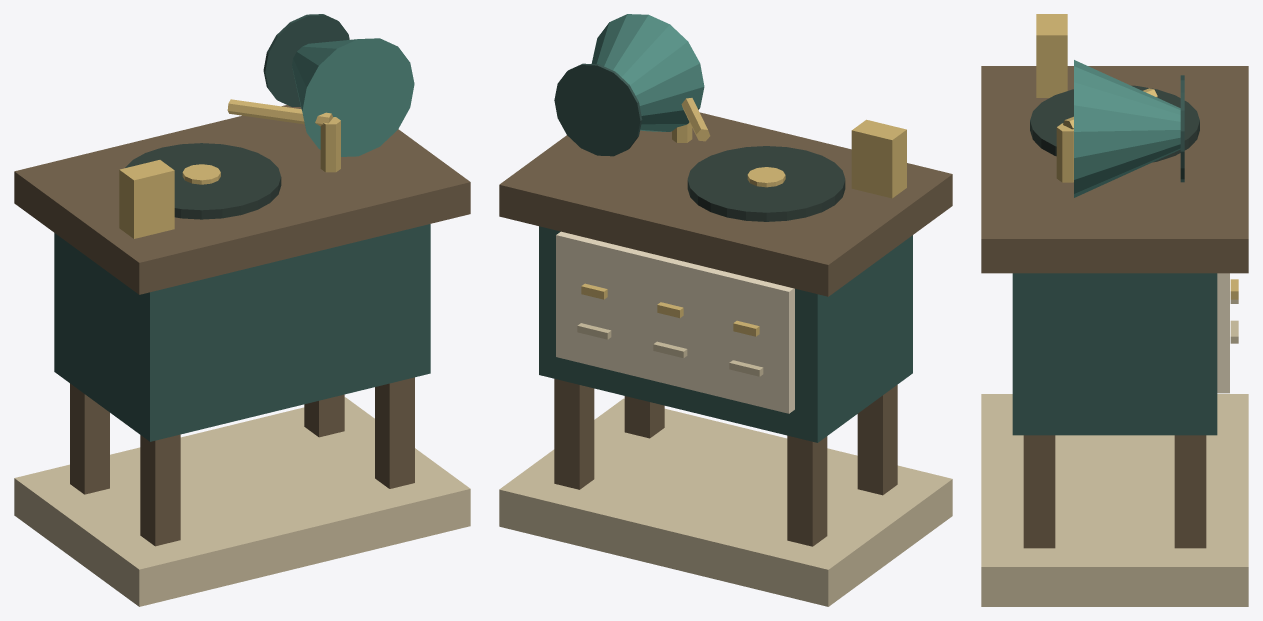
Rendered from garden-listening-cabinet.glb.
The picture shows the model from 3 angles, left to right: view 1: azimuth 30°, elevation 25°; view 2: azimuth 150°, elevation 25°; view 3: azimuth 270°, elevation 25°; orthographic projection. The views are drawn at different scales.
Visible parts, largest first — view 1: garden-listening-cabinet; view 2: garden-listening-cabinet; view 3: garden-listening-cabinet.
Boxes of the visible parts, left/top/right/bottom form: garden-listening-cabinet: left=14, top=14, right=470, bottom=606; garden-listening-cabinet: left=499, top=14, right=952, bottom=606; garden-listening-cabinet: left=981, top=14, right=1248, bottom=606.
Size of the model in its own units: 1.3 by 1.77 by 0.85.
